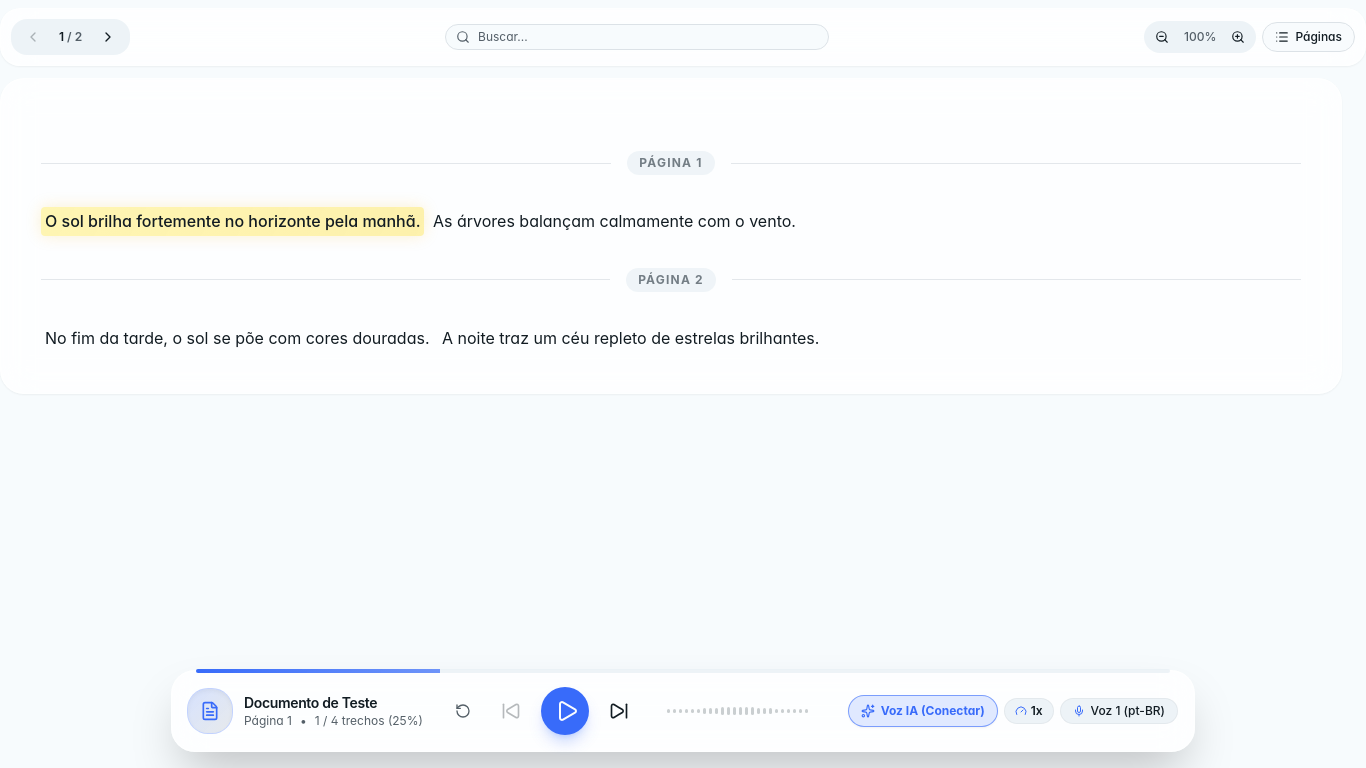
it: ModernStudioTemplate - Sistema de Busca e Navegação de Ocorrências › deve exibir 0/0 e desabilitar botões quando nenhuma ocorrência for encontrada
Type "termo_inexistente" into the search field with placeholder "Buscar..." at (637, 37), box [446, 25, 828, 49]
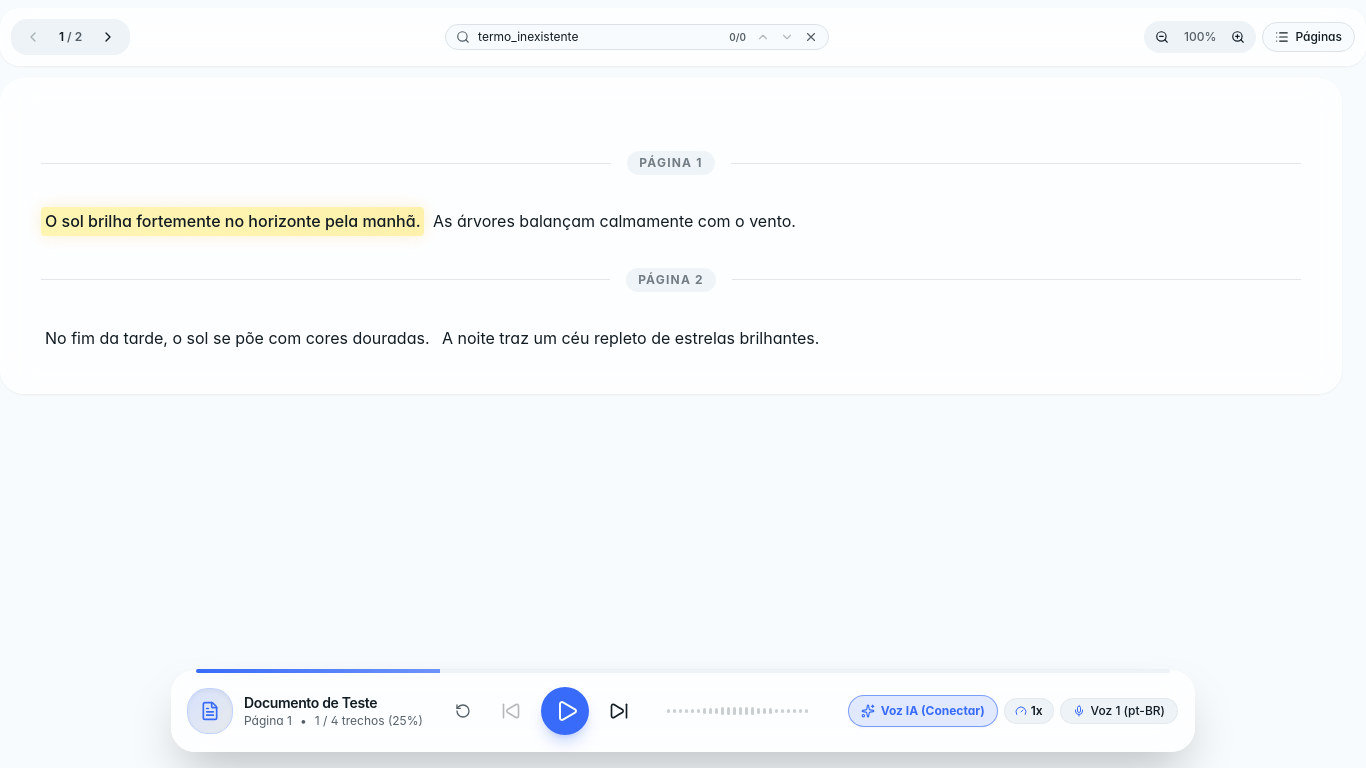
Result: the text "0/0" is shown at [729, 30, 746, 42]
Result: the button named "ocorrência anterior" is disabled at [752, 26, 774, 48]
Result: the button named "próxima ocorrência" is disabled at [776, 26, 798, 48]
